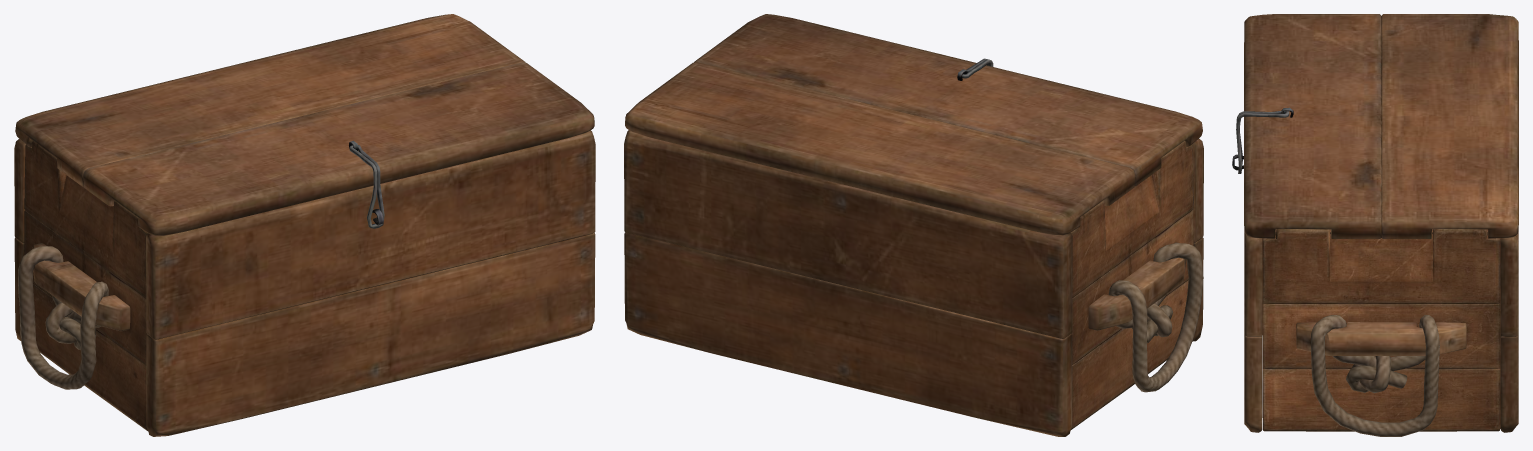
The model's file is wooden_crate_01.glb.
3 renders of one model, left to right at view 1: azimuth 30°, elevation 25°; view 2: azimuth 150°, elevation 25°; view 3: azimuth 270°, elevation 25°, orthographic. The views are drawn at different scales.
Visible parts, largest first — view 1: wooden_crate_01_lid; view 2: wooden_crate_01_lid; view 3: wooden_crate_01_lid.
Boxes of the visible parts, left/top/right/bottom form: wooden_crate_01_lid: left=14, top=14, right=595, bottom=436; wooden_crate_01_lid: left=624, top=14, right=1203, bottom=436; wooden_crate_01_lid: left=1232, top=14, right=1518, bottom=436.
Size of the model in its own units: 0.8253 by 0.3495 by 0.4084.
Materials: 1 (1 with a texture image).
